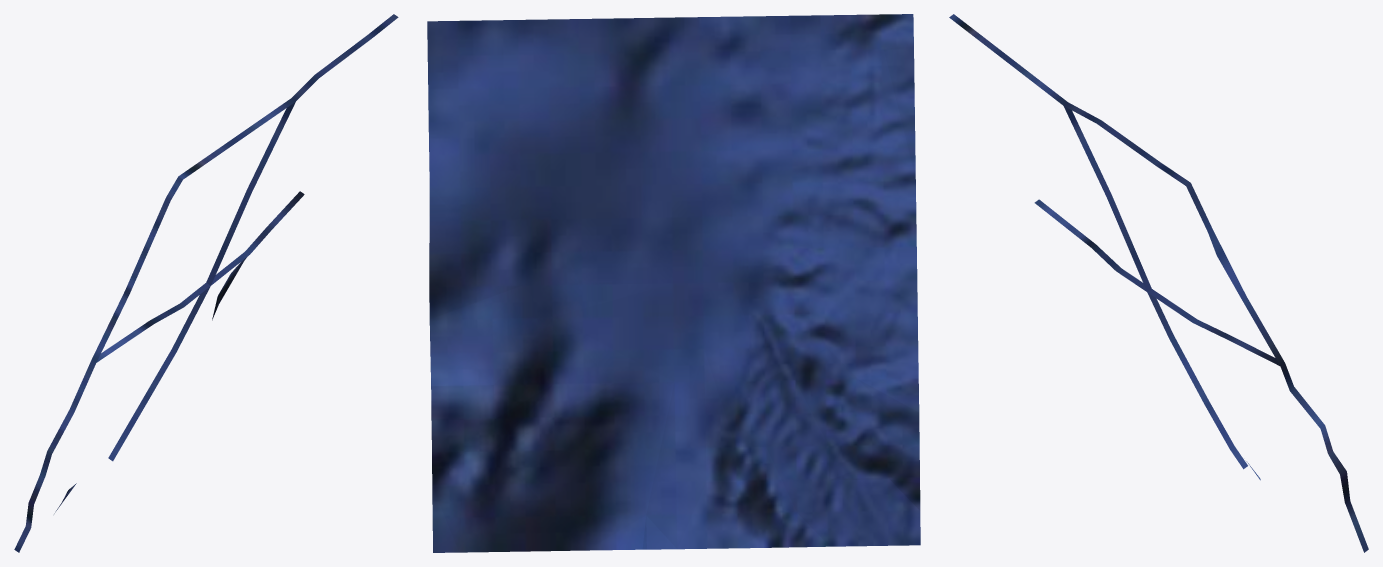
3 views of the same model, side by side, from view 1: azimuth 30°, elevation 25°; view 2: azimuth 150°, elevation 25°; view 3: azimuth 270°, elevation 25° (orthographic). The views are drawn at different scales.
Bounding box in the file's own units: 19409 × 18242 × 16423.
1 material, 1 textured.
